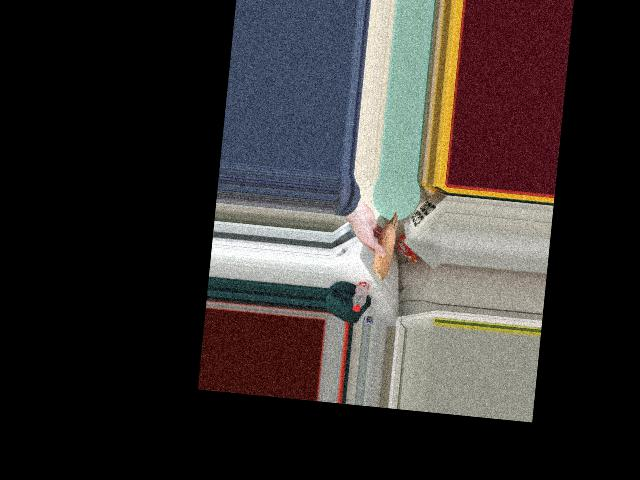sweet_potato: (373, 209, 398, 276)
